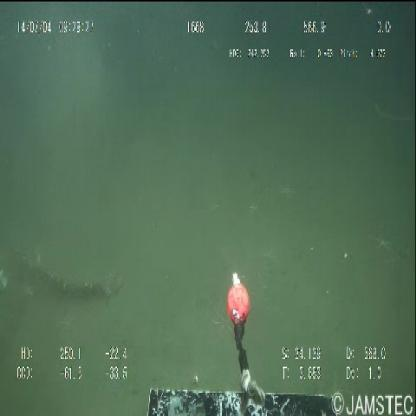Rác: (0, 242, 125, 345)
